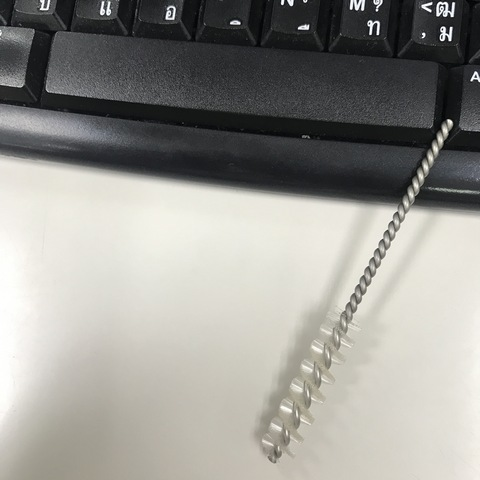Twist Brush-B: (258, 118, 456, 465)
